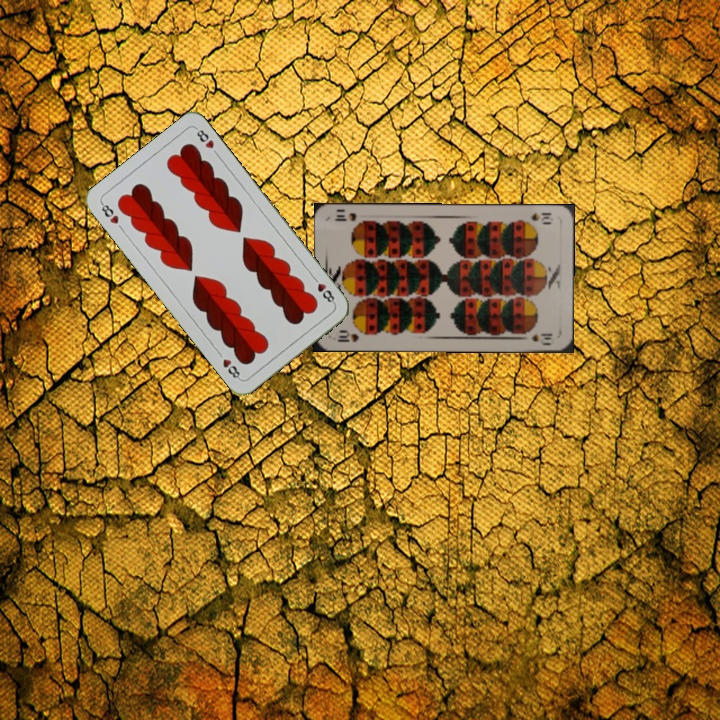H8: (308, 272, 338, 307), (97, 199, 121, 227)
S10: (517, 209, 554, 227), (333, 327, 361, 345)
